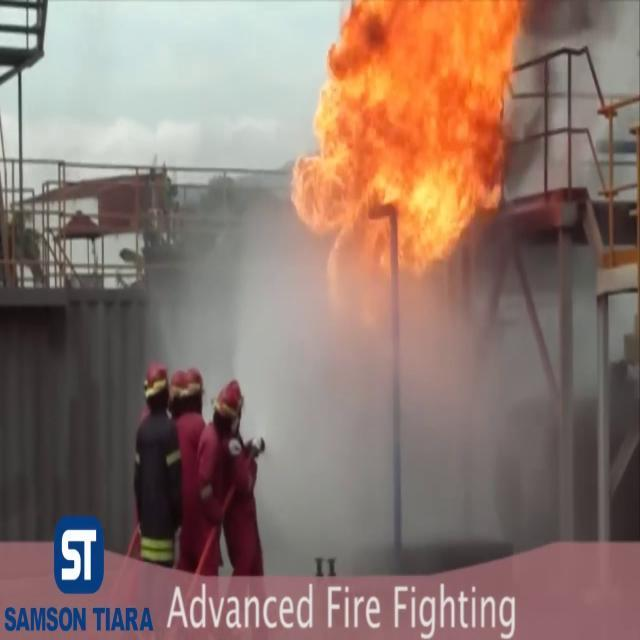Fire: (286, 0, 530, 291)
